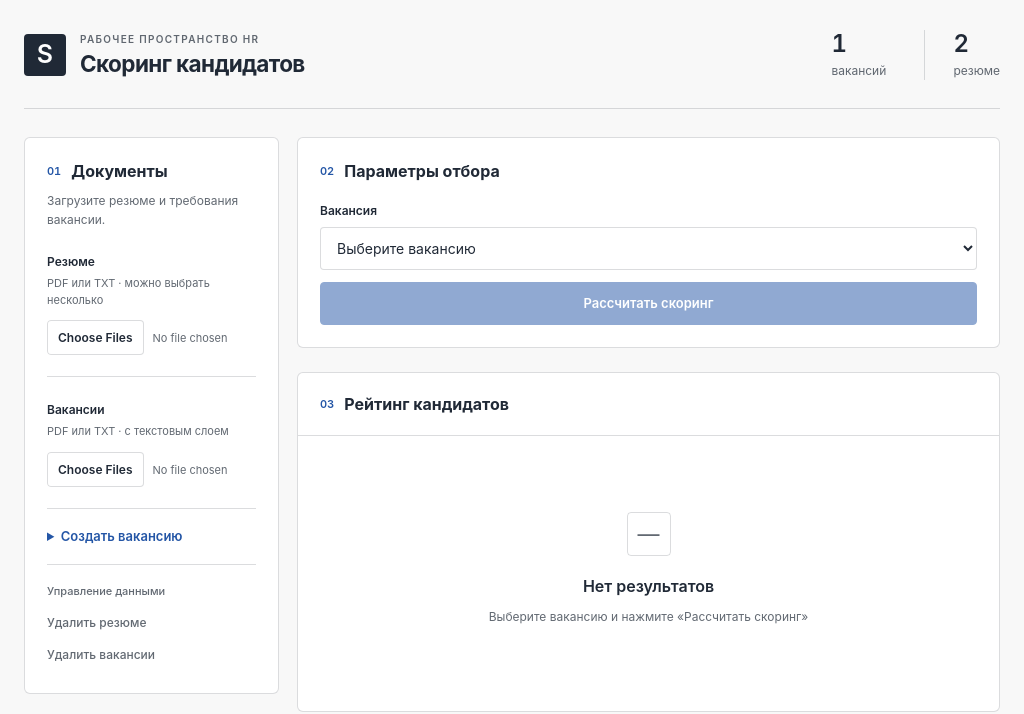
Test: scores a selected vacancy, filters candidates and highlights literal skills in the resume
Select "C++/.NET developer (ID: ncy1)" in the dropdown: (648, 248) [320,227,977,270]
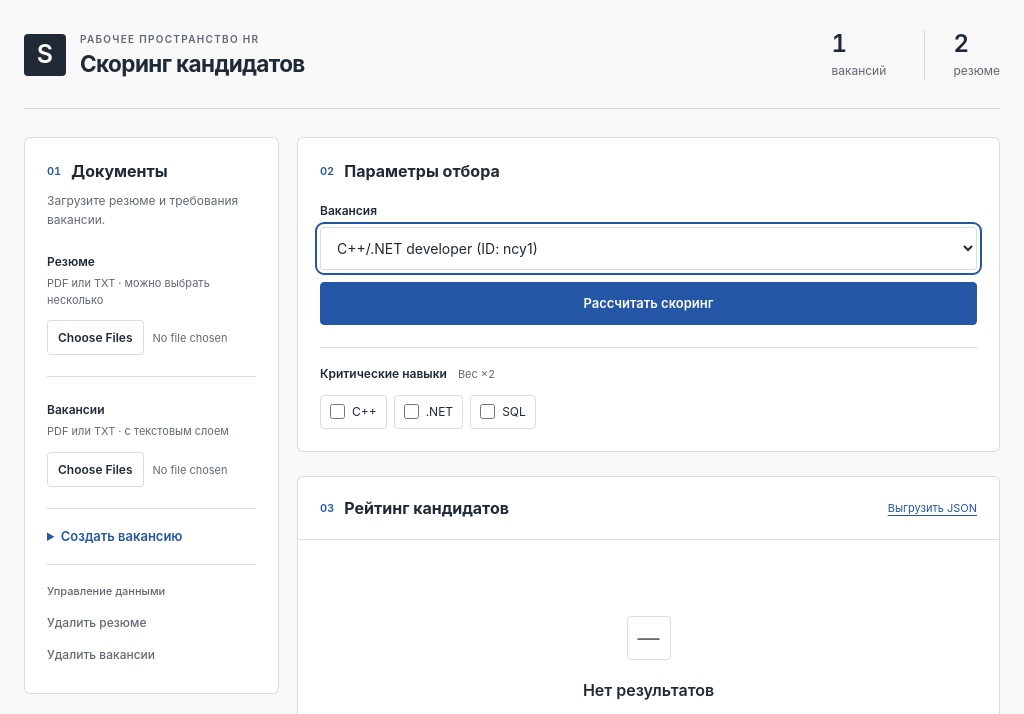
Click the checkbox labelled "SQL": (488, 412) [480,404,495,420]
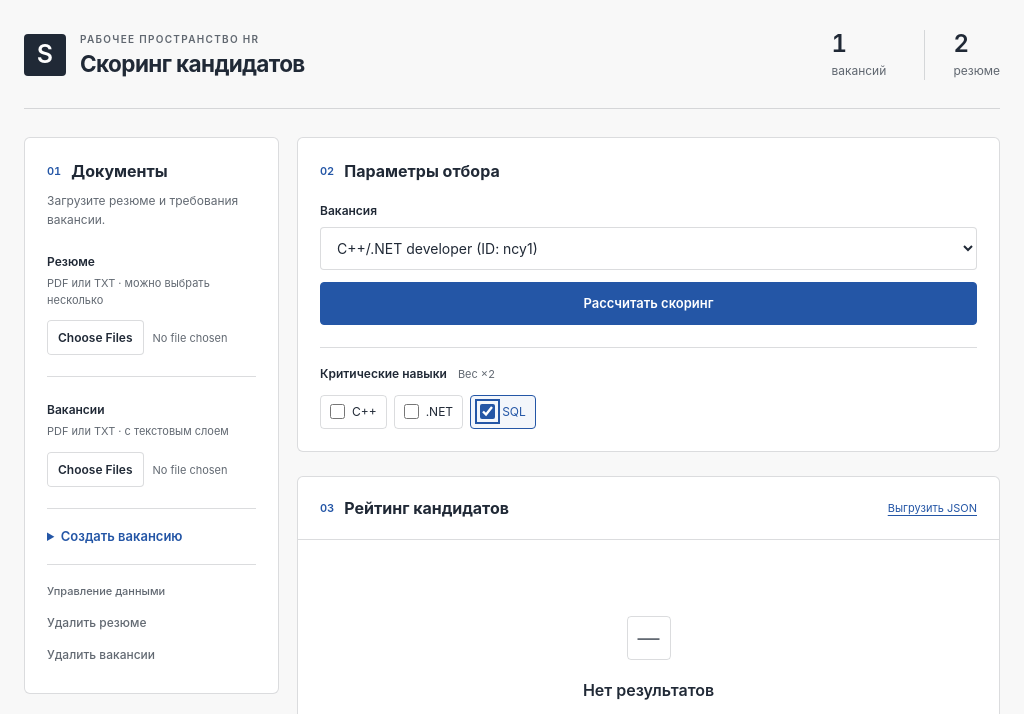
Click the button "Рассчитать скоринг": (648, 304) [320,282,977,325]
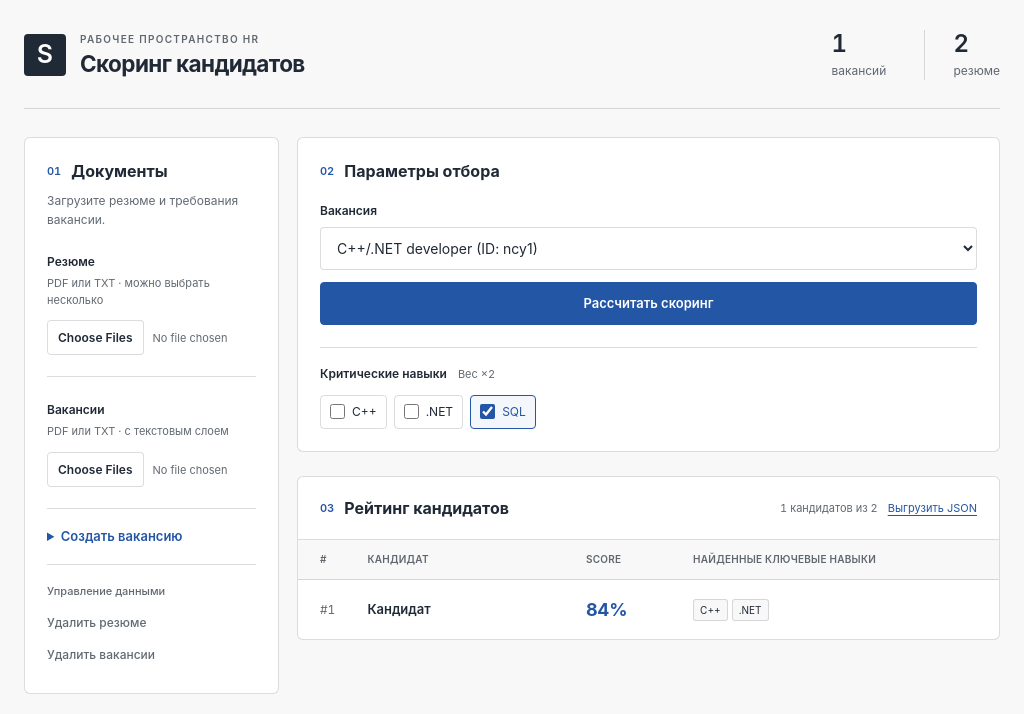
Expected: the text "1 кандидатов из 2" is shown, [780,500,878,516]
Click the row "#1 Кандидат 84% C++ .NET": (648, 610) [298,580,999,639]
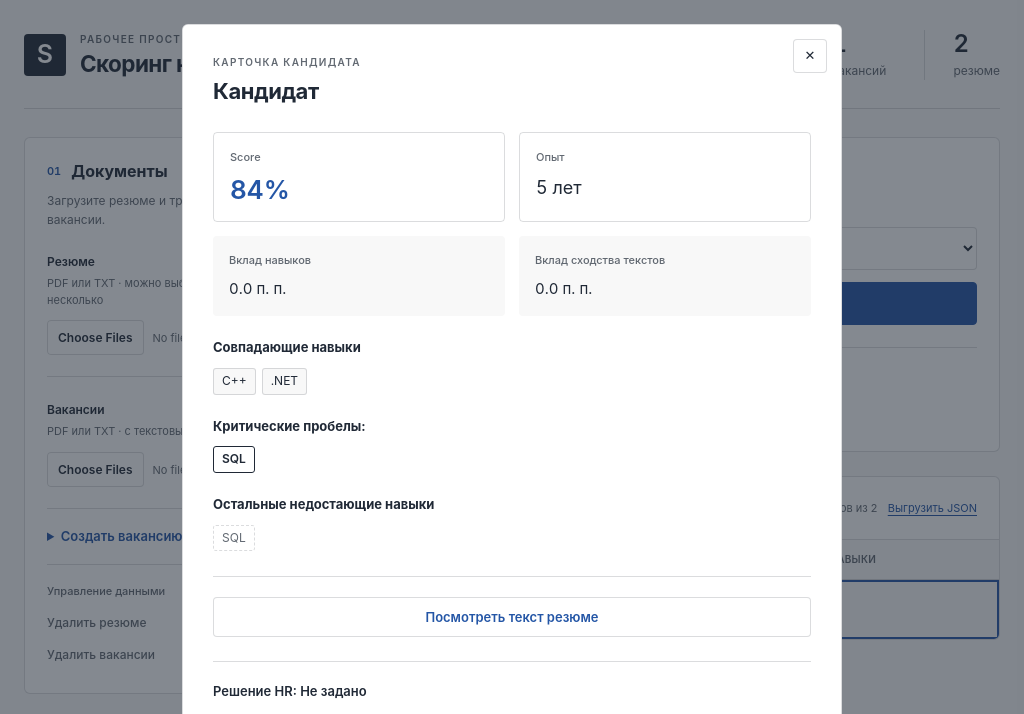
Expected: the heading "Кандидат" is shown, [213,78,319,104]
Click the button "Посмотреть текст резюме": (512, 617) [213,597,811,637]
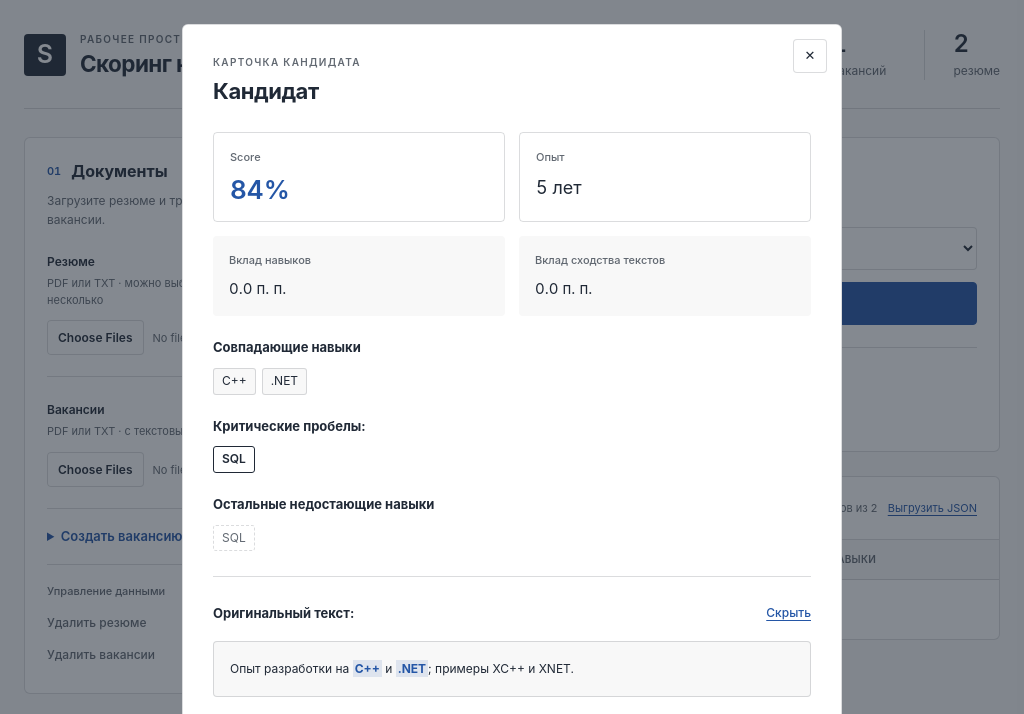
Expected: the heading "Оригинальный текст:" is shown, [213,604,354,623]
Expected: the text "C++" next to "Опыт разработки на" is shown, [355,661,380,676]
Expected: the text ".NET" next to "; примеры XC++ и XNET." is shown, [398,661,426,676]
